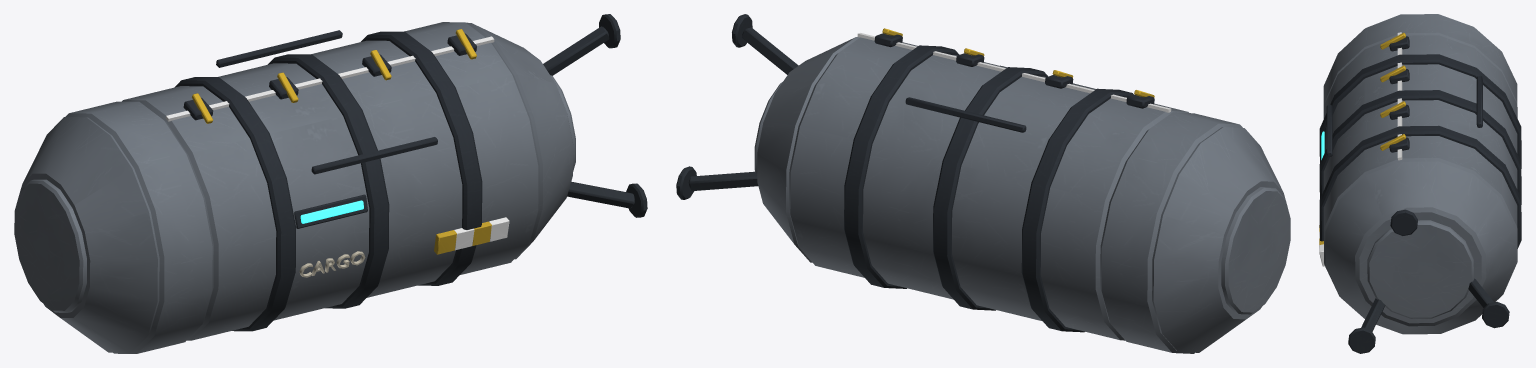
The model's file is cargo_pod.glb.
3 renders of one model, left to right at view 1: azimuth 30°, elevation 25°; view 2: azimuth 150°, elevation 25°; view 3: azimuth 270°, elevation 25°, orthographic. The views are drawn at different scales.
Parts seen in each view (by area): view 1: cargo_pod; view 2: cargo_pod; view 3: cargo_pod.
Part boxes in pixels (left/top/right/bottom): cargo_pod: left=14, top=14, right=647, bottom=353; cargo_pod: left=676, top=14, right=1290, bottom=353; cargo_pod: left=1319, top=14, right=1521, bottom=353.
Bounding box in the file's own units: 3.58 × 1.5 × 1.44.
Materials: 7 (6 with a texture image).
